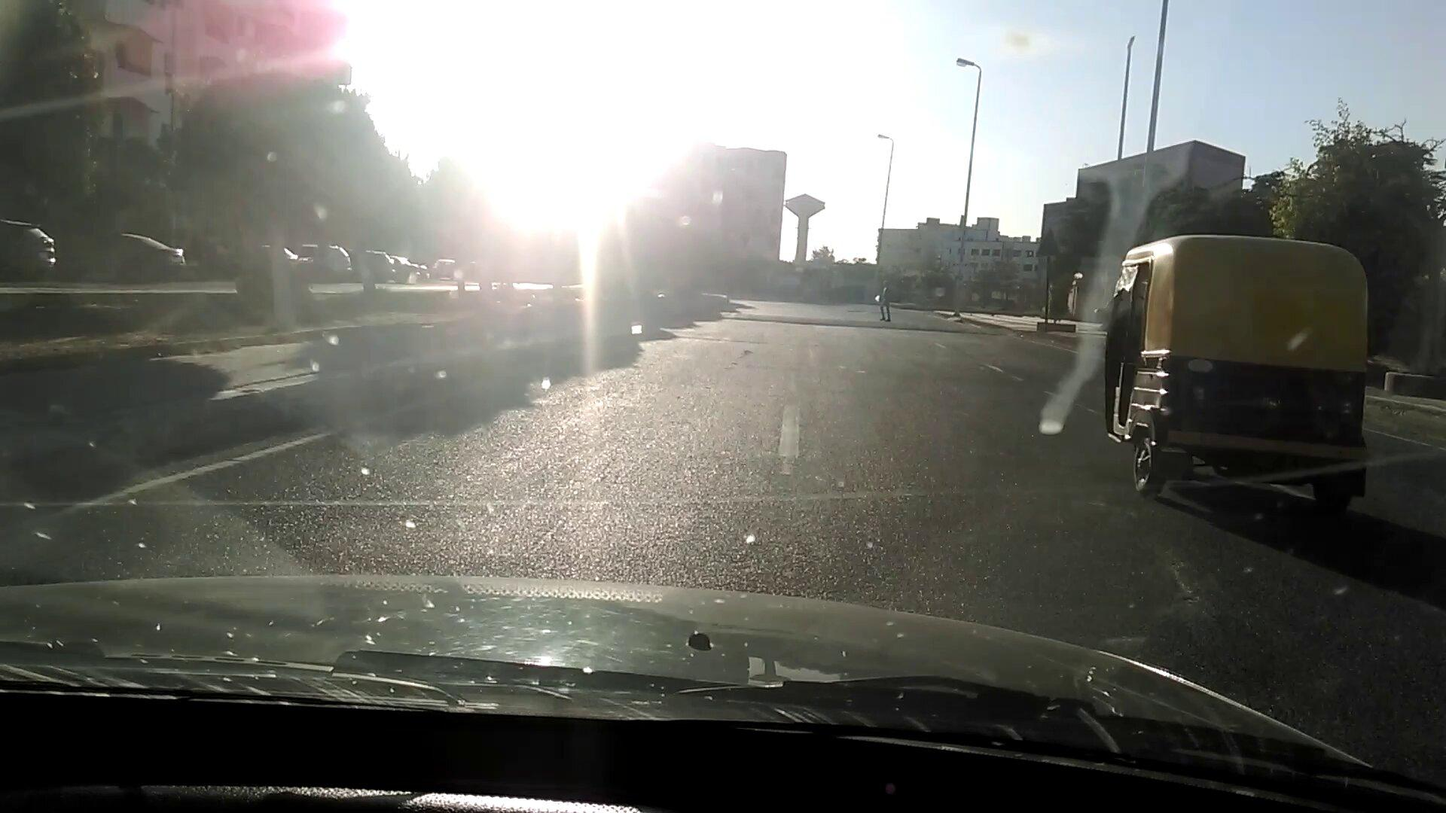Bump: (731, 312, 973, 339)
